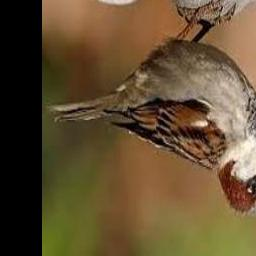Sparrow: (46, 0, 256, 216)
